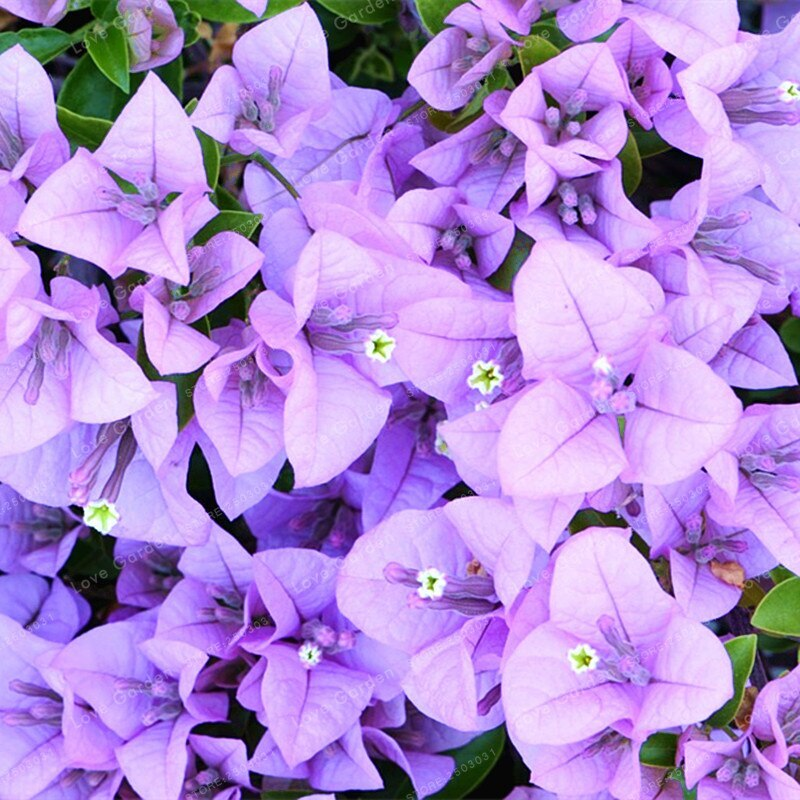bougainvillea: (509, 239, 730, 496), (506, 536, 730, 747), (255, 241, 433, 481), (339, 508, 533, 724), (20, 76, 206, 288), (1, 371, 210, 550), (395, 291, 544, 488), (60, 627, 230, 795), (249, 551, 379, 763), (0, 272, 155, 435), (679, 25, 800, 213), (496, 45, 637, 198), (193, 5, 326, 151), (129, 237, 267, 359), (161, 514, 275, 660), (707, 401, 800, 574), (395, 186, 520, 296), (517, 165, 649, 264)
